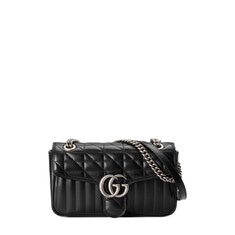Gucci: (47, 135, 185, 220), (94, 170, 134, 202)
